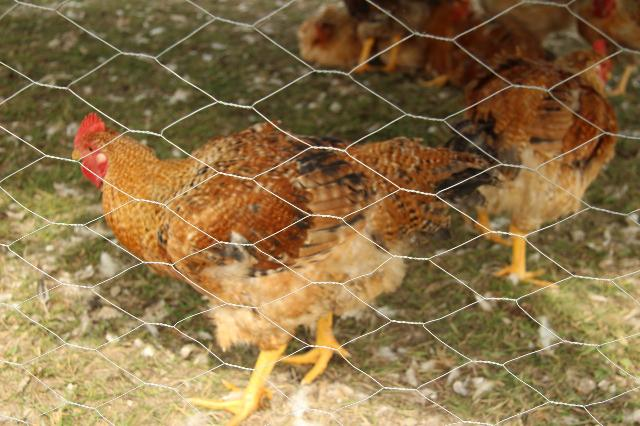Chicken: (73, 111, 475, 426), (437, 38, 621, 289)
